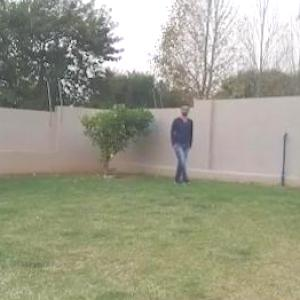follow: (173, 107, 192, 182)
